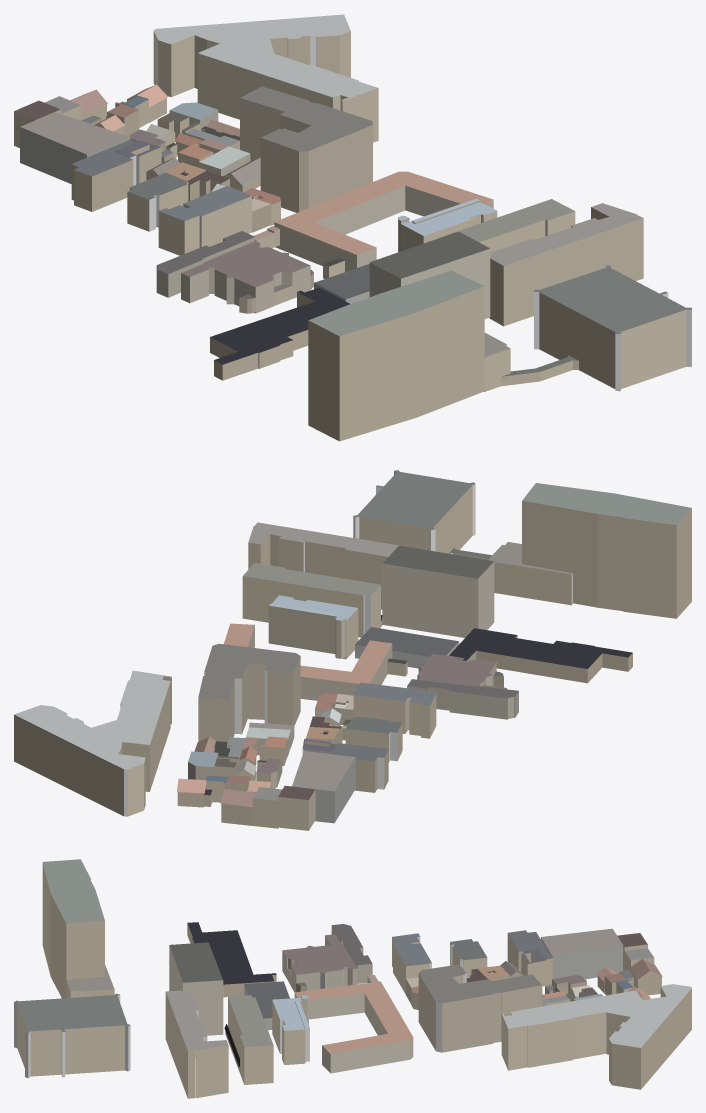
3 views of the same model, one above another, from view 1: azimuth 30°, elevation 25°; view 2: azimuth 150°, elevation 25°; view 3: azimuth 270°, elevation 25° (orthographic). The views are drawn at different scales.
Parts seen in each view (by area): view 1: tuile; view 2: tuile; view 3: tuile.
Part boxes in pixels (<box>): tuile: <box>14,14,691,441</box>; tuile: <box>14,470,691,830</box>; tuile: <box>14,859,691,1098</box>.
Bounding box in the file's own units: 164 × 39.2 × 287.
